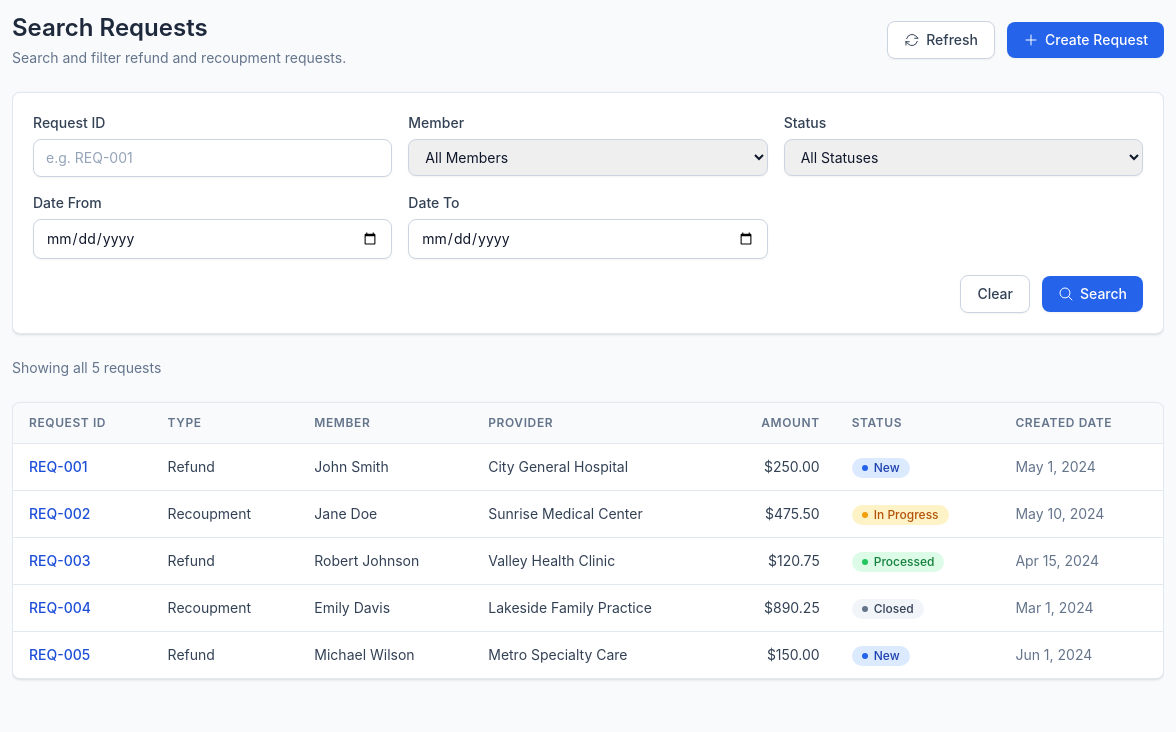
Test: SearchRequests › clear filters › resets all filters and shows all requests when Clear is clicked
Note: Apply a filter first
Step 1. Select "New" in the dropdown labelled "Status" → (963, 158), box [784,139,1143,176]
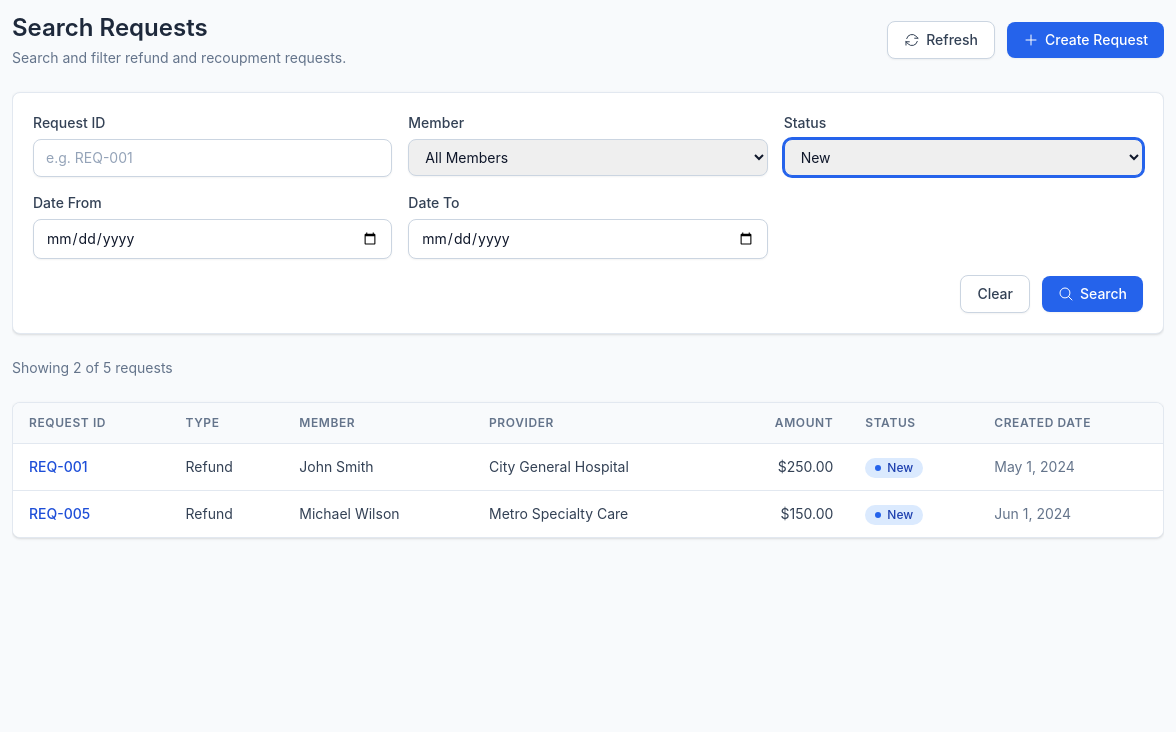
Step 2. Click the button "Search" → (1092, 294), box [1042,276,1143,312]
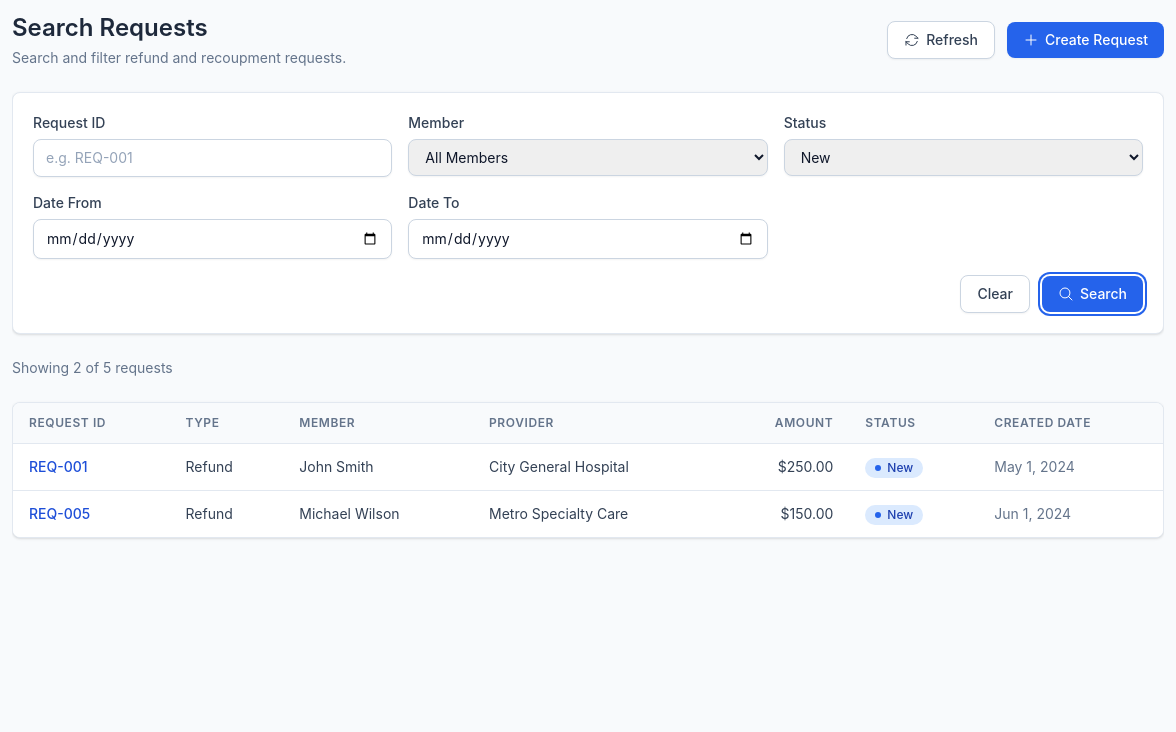
Now the text "Showing 2 of 5 requests" is shown, box [12,358,173,378]
Note: Clear filters
Step 3. Click the button "Clear" → (995, 294), box [960,275,1030,313]
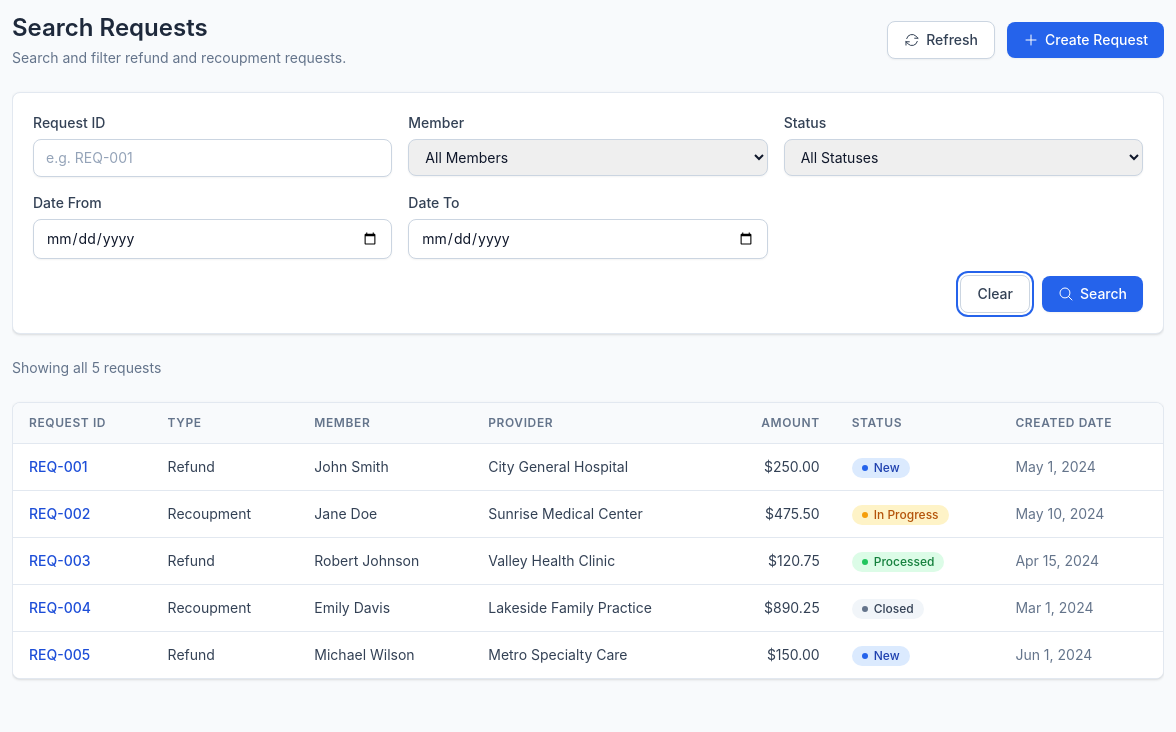
Now the text "Showing all 5 requests" is shown, box [12,358,161,378]
Now the text "REQ-002" is shown, box [13,490,152,538]
Now the text "REQ-003" is shown, box [13,538,152,584]
